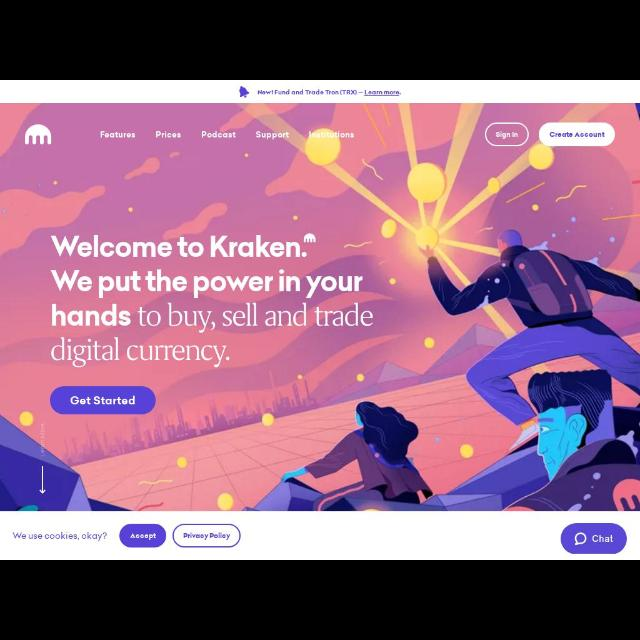backgroundimage: (1, 103, 640, 510)
icon: (24, 124, 52, 144), (40, 466, 46, 494), (574, 532, 586, 546)
image: (239, 86, 249, 98)
link: (364, 90, 400, 96)
text: (51, 302, 372, 334), (51, 270, 363, 298), (51, 235, 307, 257), (51, 337, 229, 368), (12, 532, 108, 542), (257, 90, 401, 96), (70, 396, 134, 404), (183, 532, 230, 540), (310, 130, 354, 138), (550, 132, 604, 138), (256, 131, 288, 139), (100, 132, 136, 138), (130, 532, 156, 540), (202, 132, 236, 138), (40, 424, 46, 456), (496, 131, 518, 139), (592, 535, 614, 543), (156, 132, 180, 138)
textbutton: (51, 386, 155, 414), (562, 524, 626, 554), (539, 122, 615, 146), (173, 524, 241, 548), (120, 524, 166, 548), (486, 123, 528, 147)
